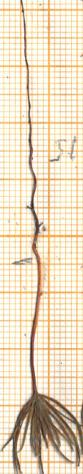flower: (0, 392, 83, 474)
root: (16, 0, 46, 260)
stem: (27, 259, 45, 392)
